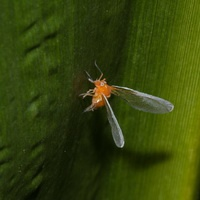insect: (80, 61, 173, 147)
